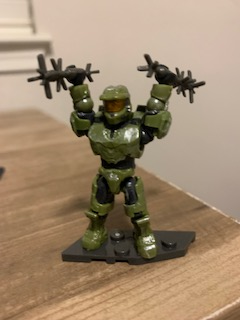chief: (61, 62, 175, 258)
spartan: (59, 60, 173, 256)
up: (63, 64, 175, 164)
